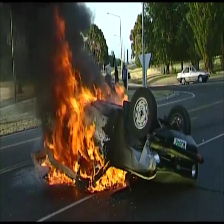fire_h: (44, 6, 105, 179), (88, 166, 128, 192), (48, 169, 75, 186)
fire_l: (114, 84, 128, 106), (41, 154, 53, 168), (105, 83, 110, 95)
